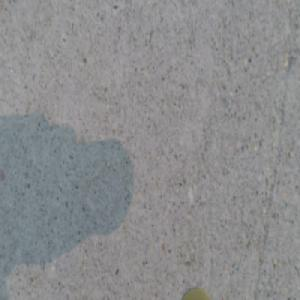Washer: (181, 286, 211, 300)
